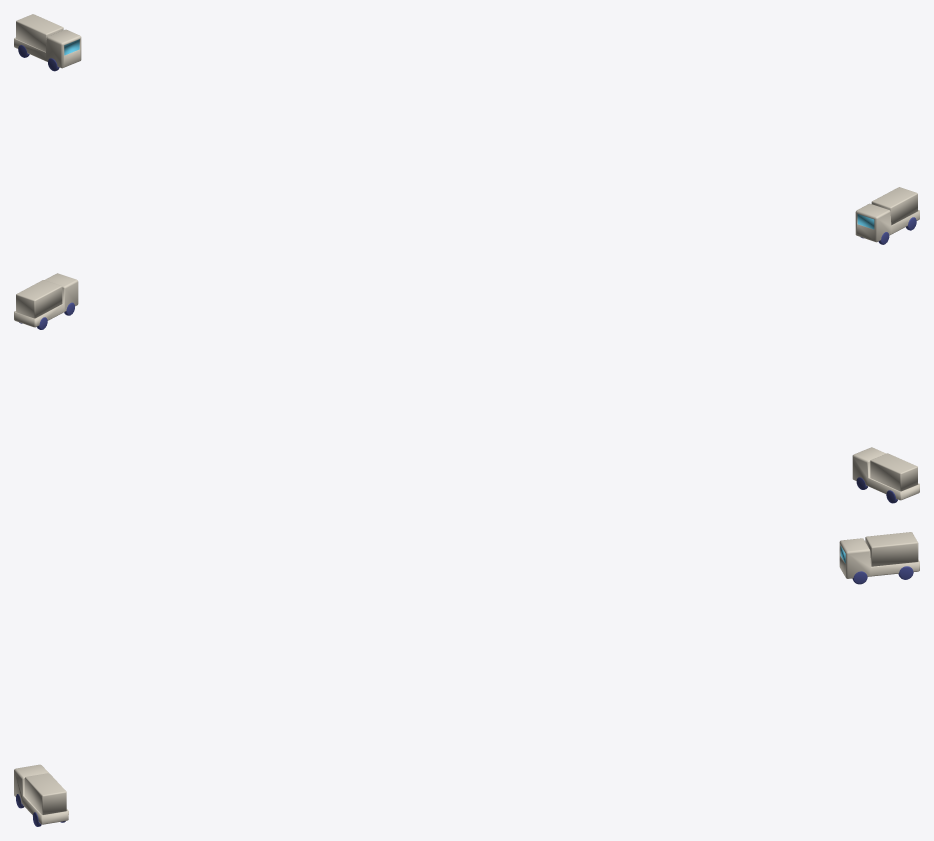
Rendered from 001_トラック.glb.
3 renders of one model, top to bottom at view 1: azimuth 30°, elevation 25°; view 2: azimuth 210°, elevation 25°; view 3: azimuth 270°, elevation 25°, orthographic. The views are drawn at different scales.
Parts seen in each view (by area): view 1: 立方体033_1, 立方体033_3; view 2: 立方体033_3, 立方体033_1; view 3: 立方体033_3, 立方体033_1.
Boxes of the visible parts, box(x1,y1,x2,y2) form: 立方体033_1: box(14, 29, 919, 242); 立方体033_3: box(16, 14, 917, 224); 立方体033_3: box(16, 280, 917, 491); 立方体033_1: box(14, 273, 919, 500); 立方体033_3: box(24, 532, 918, 814); 立方体033_1: box(14, 538, 919, 824).
Bounding box in the file's own units: 26.16 × 1.64 × 37.72.
